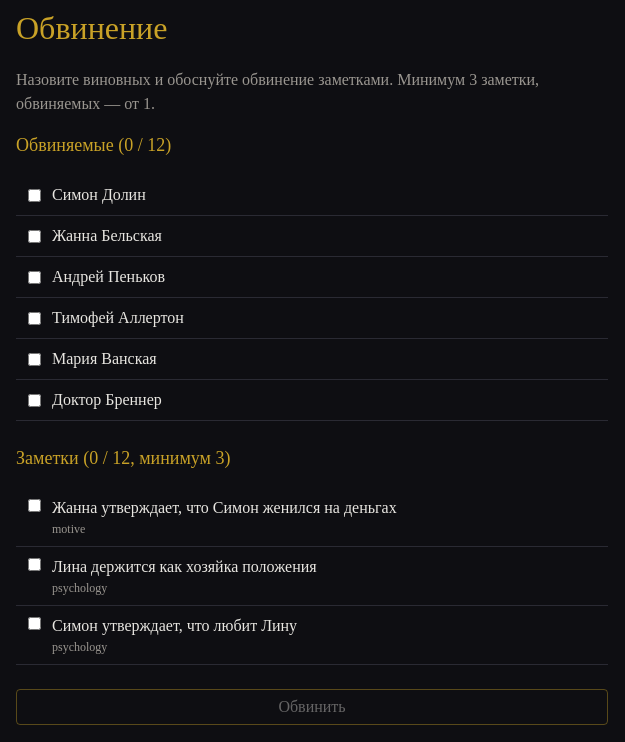
Test case: AccusationScreen › кнопка «Обвинить» enabled при 1 обвиняемом + 3 заметках
Click the checkbox labelled "Симон Долин" at (34, 195), box left=28, top=188, right=41, bottom=202
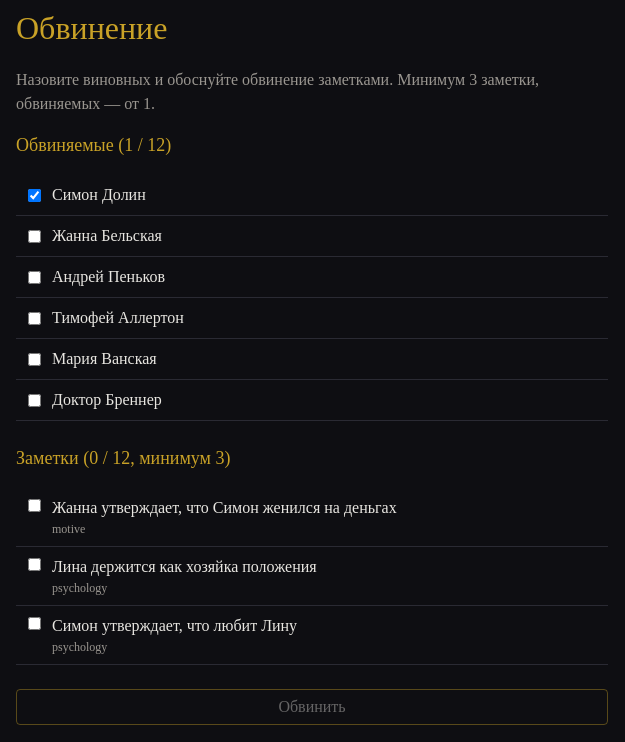
Click the checkbox labelled "Жанна утверждает, что Симон женился на деньгах" at (34, 506), box left=28, top=499, right=41, bottom=512
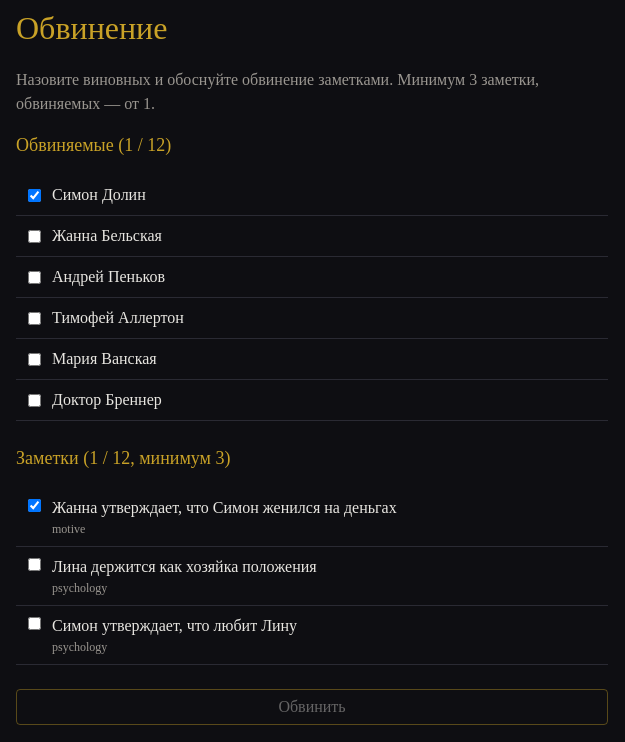
Click the checkbox labelled "Лина держится как хозяйка положения" at (34, 564), box left=28, top=558, right=41, bottom=571
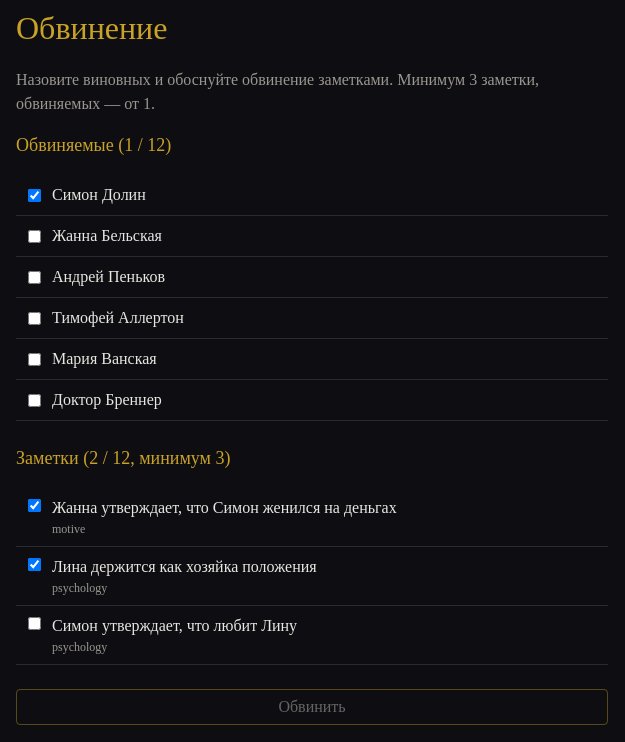
Click the checkbox labelled "Симон утверждает, что любит Лину" at (34, 624), box left=28, top=617, right=41, bottom=630
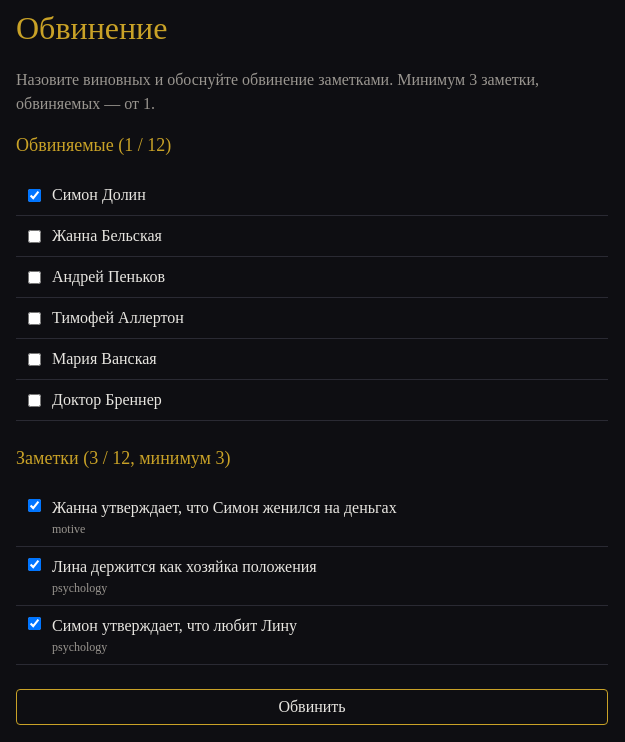
Expected: the button "Обвинить" is enabled, left=16, top=689, right=608, bottom=725
